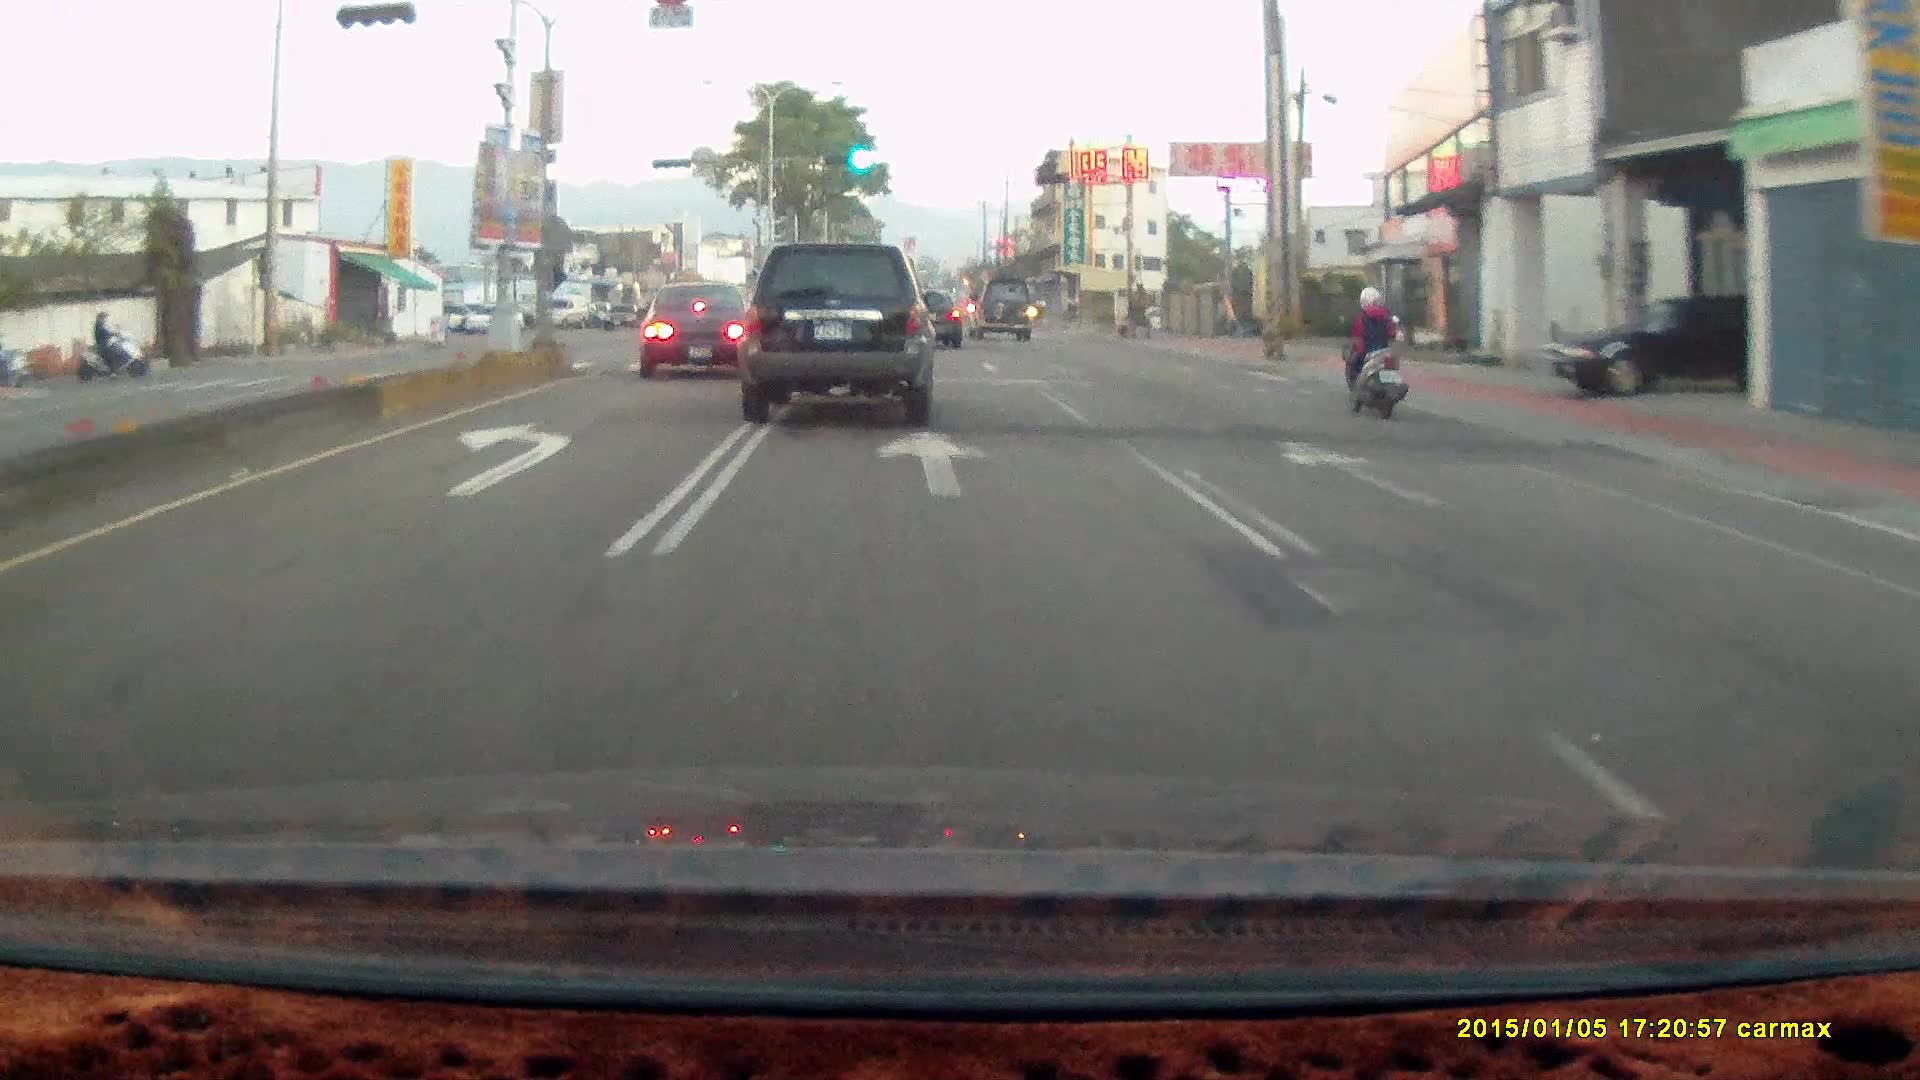rider: (1325, 275, 1420, 428), (1332, 286, 1405, 419), (47, 296, 153, 380)
vehicle: (738, 236, 943, 424), (738, 241, 941, 421), (1540, 292, 1834, 398), (1554, 294, 1759, 400), (639, 279, 759, 383), (638, 278, 759, 376), (888, 288, 963, 349), (967, 277, 1035, 344), (895, 289, 964, 351), (966, 276, 1033, 338), (460, 302, 524, 336), (528, 297, 584, 329), (601, 304, 642, 330)
